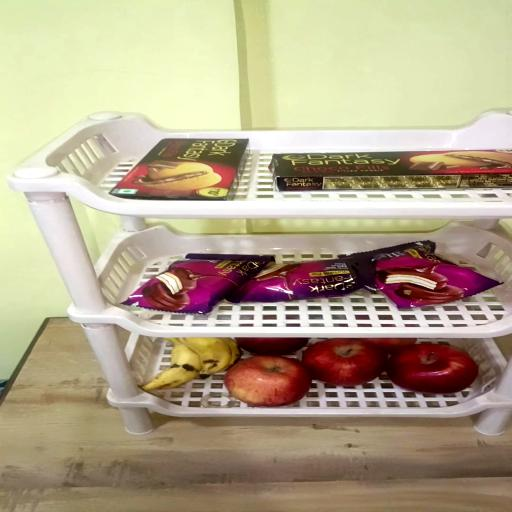Apple: (387, 343, 477, 394), (226, 356, 313, 407), (302, 338, 388, 386), (239, 338, 311, 358), (357, 338, 417, 357)
Choco Fills: (274, 152, 508, 194), (112, 136, 250, 200)
Choco Pie: (125, 256, 276, 316), (369, 242, 501, 309), (230, 253, 378, 304)
